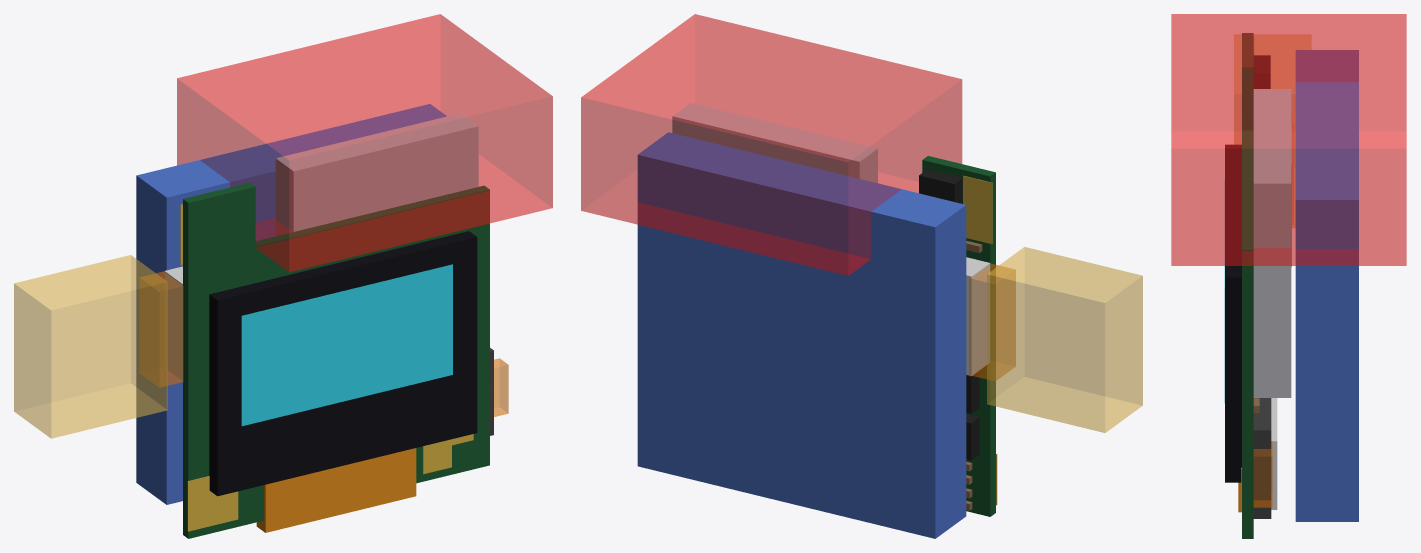
Rendered from lumi_pcb_v1_refs.obj.
The picture shows the model from 3 angles, left to right: view 1: azimuth 30°, elevation 25°; view 2: azimuth 150°, elevation 25°; view 3: azimuth 270°, elevation 25°; orthographic projection. The views are drawn at different scales.
Parts seen in each view (by area): view 1: Antenna_keep-out, OLED_glass, USB-C_plug_clearance, OLED_active_area, PCB, Battery_503030, U1_ESP32-C3-WROOM-02-N4, OLED_cable,_front_run, PCB,_corner_beside_the_antenna, USB-C_opening, J1_USB-C_16P, OLED_cable,_bend (+4 smaller); view 2: Battery_503030, Antenna_keep-out, USB-C_plug_clearance, U1_ESP32-C3-WROOM-02-N4, USB-C_opening, PCB, J1_USB-C_16P, PCB,_corner_beside_the_antenna, U3_TP4054, BT1_BAT+, BT2_BAT-; view 3: Antenna_keep-out, Battery_503030, U1_ESP32-C3-WROOM-02-N4, OLED_glass, PCB, USB-C_plug_clearance, SW1_MSK12C02, PCB,_corner_beside_the_antenna, Switch_lever_slot, J2_AFC07-S30ECC-00, U3_TP4054.
Part boxes in pixels (box(x1,y1,x2,y2)): Antenna_keep-out: box(177, 14, 552, 272); OLED_glass: box(209, 231, 477, 496); USB-C_plug_clearance: box(14, 255, 167, 438); OLED_active_area: box(241, 264, 452, 426); PCB: box(183, 185, 489, 538); Battery_503030: box(136, 104, 446, 504); U1_ESP32-C3-WROOM-02-N4: box(275, 113, 478, 235); OLED_cable,_front_run: box(264, 448, 416, 521); PCB,_corner_beside_the_antenna: box(183, 182, 255, 262); USB-C_opening: box(139, 271, 183, 387); J1_USB-C_16P: box(164, 266, 182, 381); OLED_cable,_bend: box(256, 485, 416, 532); Battery_503030: box(637, 132, 966, 538); Antenna_keep-out: box(581, 14, 962, 275); USB-C_plug_clearance: box(987, 247, 1142, 432); U1_ESP32-C3-WROOM-02-N4: box(672, 103, 877, 182); USB-C_opening: box(969, 263, 1015, 380); PCB: box(966, 233, 995, 516); J1_USB-C_16P: box(966, 257, 990, 375); PCB,_corner_beside_the_antenna: box(922, 156, 995, 235); U3_TP4054: box(919, 169, 962, 203); BT1_BAT+: box(963, 175, 992, 215); BT2_BAT-: box(966, 209, 992, 244); Antenna_keep-out: box(1171, 14, 1406, 265); Battery_503030: box(1295, 50, 1358, 521); U1_ESP32-C3-WROOM-02-N4: box(1253, 89, 1291, 397); OLED_glass: box(1225, 145, 1241, 482); PCB: box(1242, 130, 1253, 538); USB-C_plug_clearance: box(1234, 34, 1311, 227); SW1_MSK12C02: box(1253, 398, 1271, 518); PCB,_corner_beside_the_antenna: box(1242, 33, 1253, 130); Switch_lever_slot: box(1253, 441, 1272, 507); J2_AFC07-S30ECC-00: box(1271, 398, 1277, 509); U3_TP4054: box(1254, 55, 1270, 88).
Size of the model in its own units: 48.5 by 39.1 by 20.
